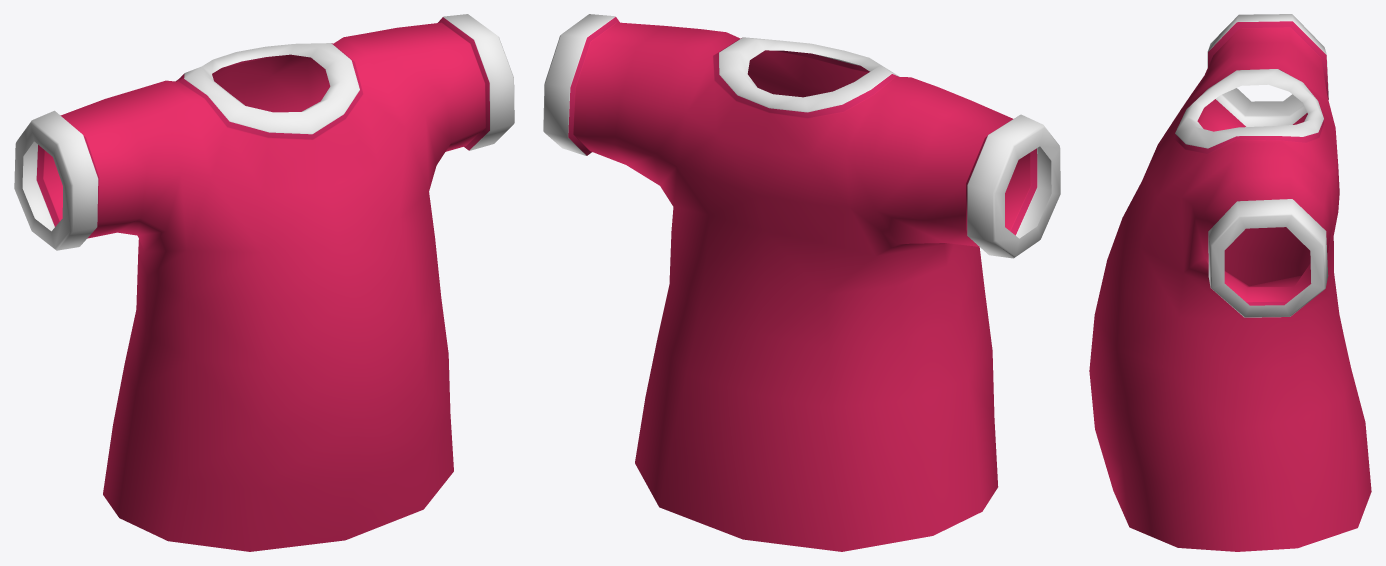
File: Outerwear_Pink_012.glb
3 views of the same model, side by side, from view 1: azimuth 30°, elevation 25°; view 2: azimuth 150°, elevation 25°; view 3: azimuth 270°, elevation 25° (orthographic). The views are drawn at different scales.
Parts seen in each view (by area): view 1: Outerwear_Pink_012; view 2: Outerwear_Pink_012; view 3: Outerwear_Pink_012.
Boxes of the visible parts, <box> form: Outerwear_Pink_012: <box>14,14,514,551</box>; Outerwear_Pink_012: <box>543,14,1060,551</box>; Outerwear_Pink_012: <box>1089,14,1371,551</box>.
Bounding box in the file's own units: 0.6902 × 0.6213 × 0.4059.
Materials: 1 (1 with a texture image).
